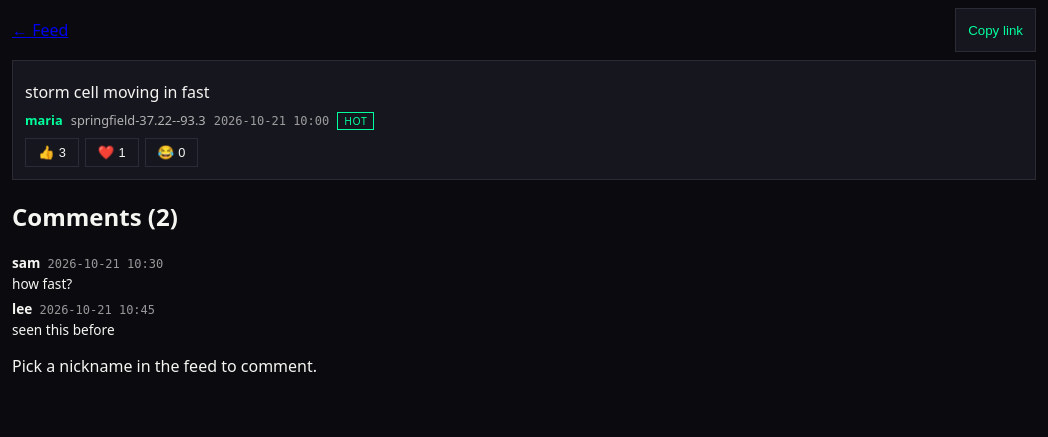
Test case: PostDetailPage share › clipboard failure reports an honest error
Click the button with test id "share-copy".
click(996, 30)  # box [955,8,1036,52]
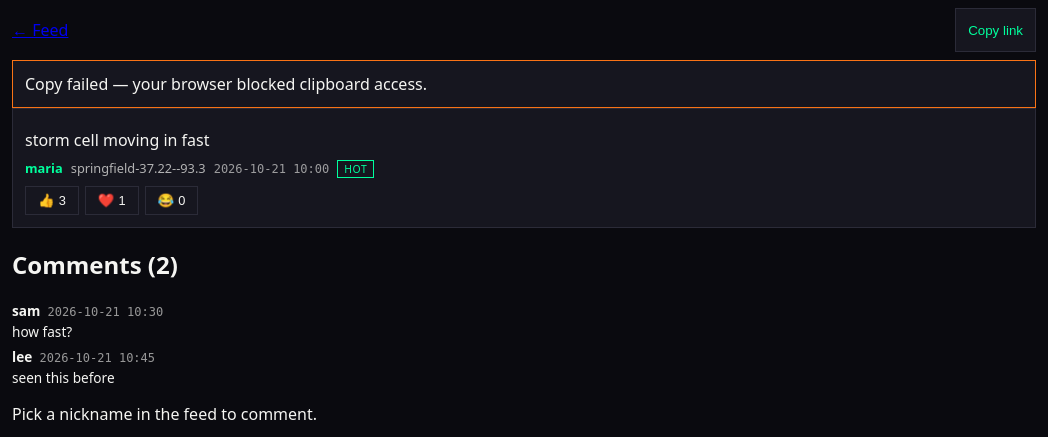
Expected: the message "Copy failed — your browser blocked clipboard access." is shown, [12,60,1036,108]
